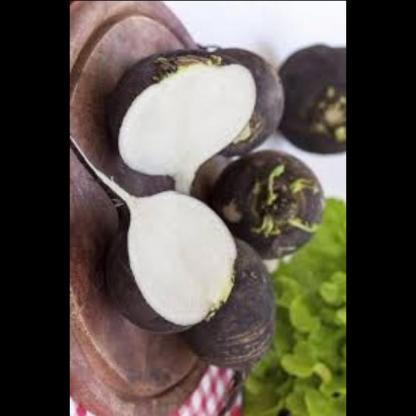redka: (102, 53, 257, 182), (100, 194, 241, 328), (182, 224, 278, 375), (209, 151, 330, 264), (190, 49, 288, 160), (277, 43, 347, 158)
